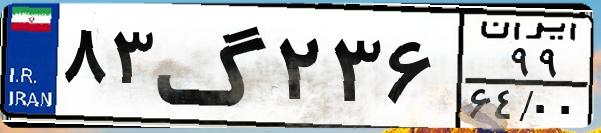0: (560, 70, 590, 125), (535, 70, 560, 125)
2: (270, 28, 330, 110)
3: (330, 28, 385, 110), (110, 28, 156, 98)
4: (495, 70, 520, 125)
6: (385, 28, 445, 110), (470, 70, 495, 125)
8: (57, 26, 110, 100)
9: (537, 27, 568, 80), (508, 27, 537, 80)
گ: (156, 12, 270, 120)
